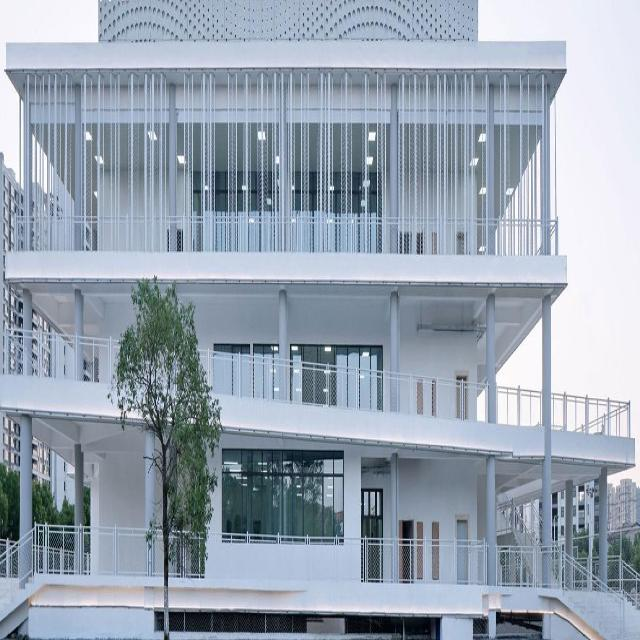door: (362, 489, 382, 571)
railing: (5, 328, 629, 444), (0, 524, 607, 618)
window: (217, 454, 341, 542), (210, 348, 380, 384)
